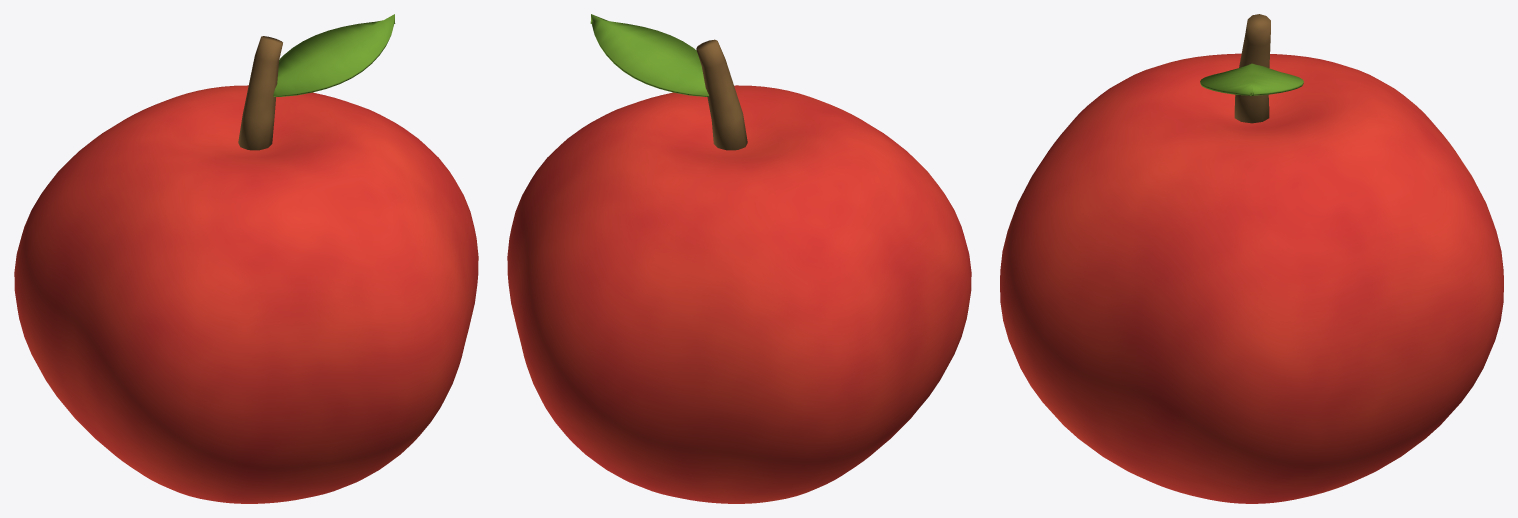
The model's file is Apple.fbx.
3 views of the same model, side by side, from view 1: azimuth 30°, elevation 25°; view 2: azimuth 150°, elevation 25°; view 3: azimuth 270°, elevation 25° (orthographic). The views are drawn at different scales.
Visible parts, largest first — view 1: Apple; view 2: Apple; view 3: Apple.
Part boxes in pixels (bbox=[...]): Apple: bbox=[14, 14, 478, 503]; Apple: bbox=[507, 14, 971, 503]; Apple: bbox=[1000, 14, 1503, 503].
Bounding box in the file's own units: 100 × 102 × 102.
